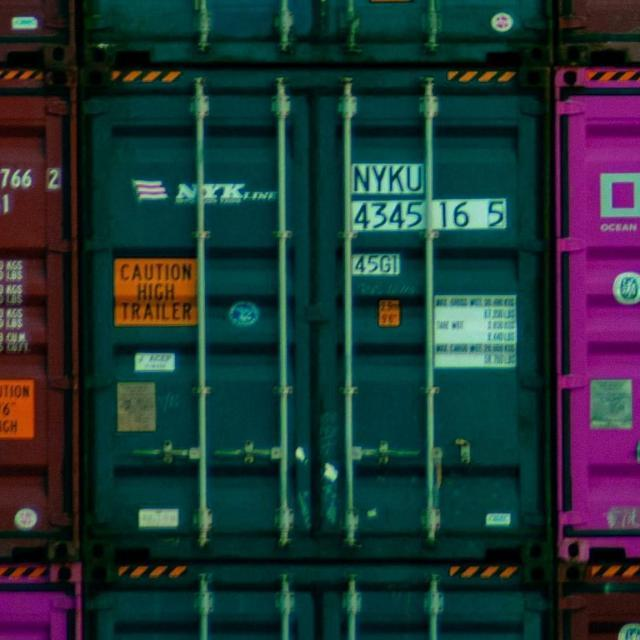ISO: (346, 246, 410, 280)
container_number: (343, 158, 520, 234)
